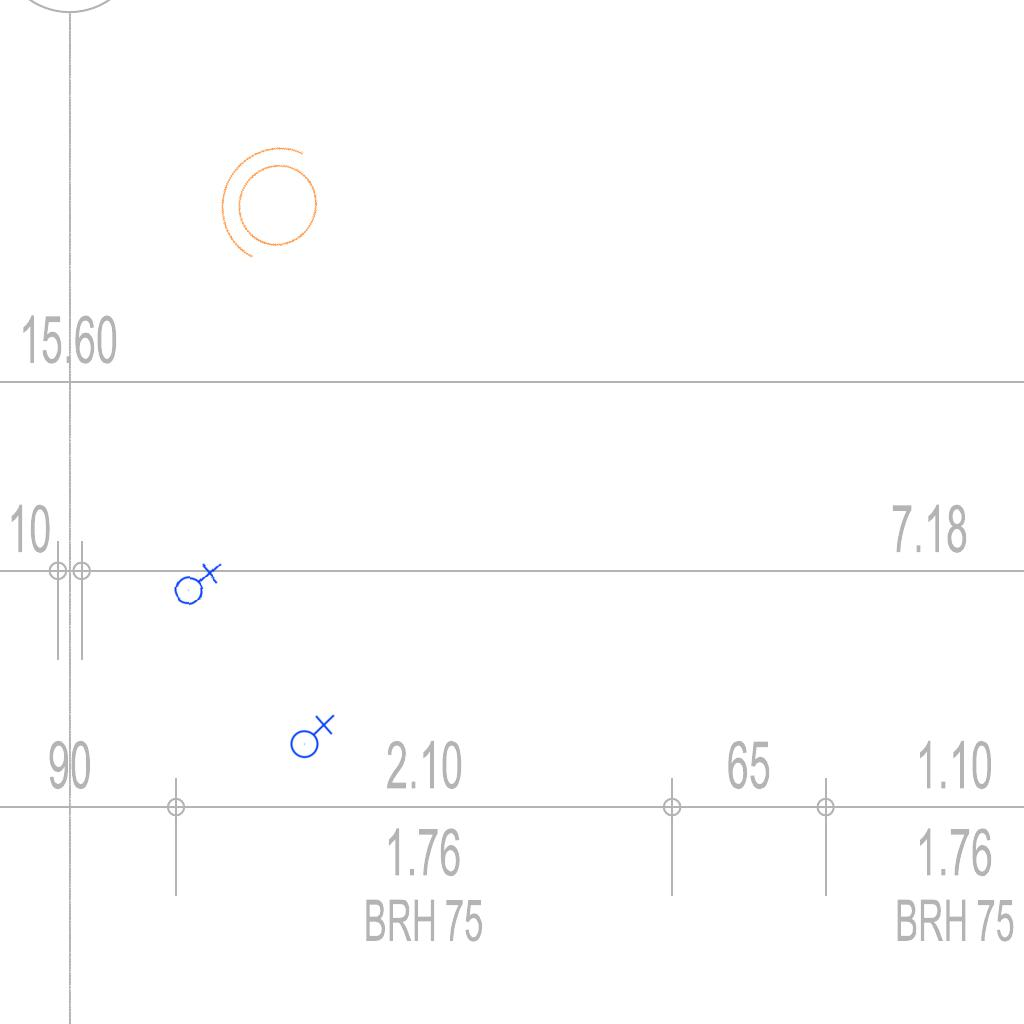Elektroanschluss_allgemein_230V_Geraeteanschlussdose_230V: (169, 556, 222, 609), (286, 712, 335, 759)
Scheinwerfer_fuer_Alarmbeleuchtung: (192, 122, 352, 290)
